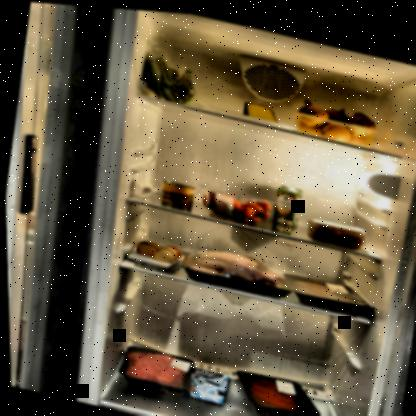beef: (226, 362, 325, 415)
cheese: (240, 96, 281, 122)
chicken: (175, 236, 297, 297), (277, 264, 373, 314)
chocolate: (180, 362, 229, 403)
corn: (156, 175, 195, 210)
eggs: (129, 233, 181, 268)
green_beans: (136, 48, 201, 107)
ground_beef: (110, 339, 191, 396)
heavy_cream: (270, 176, 304, 225)
onion: (289, 89, 378, 144)
strawberries: (197, 181, 274, 224)
